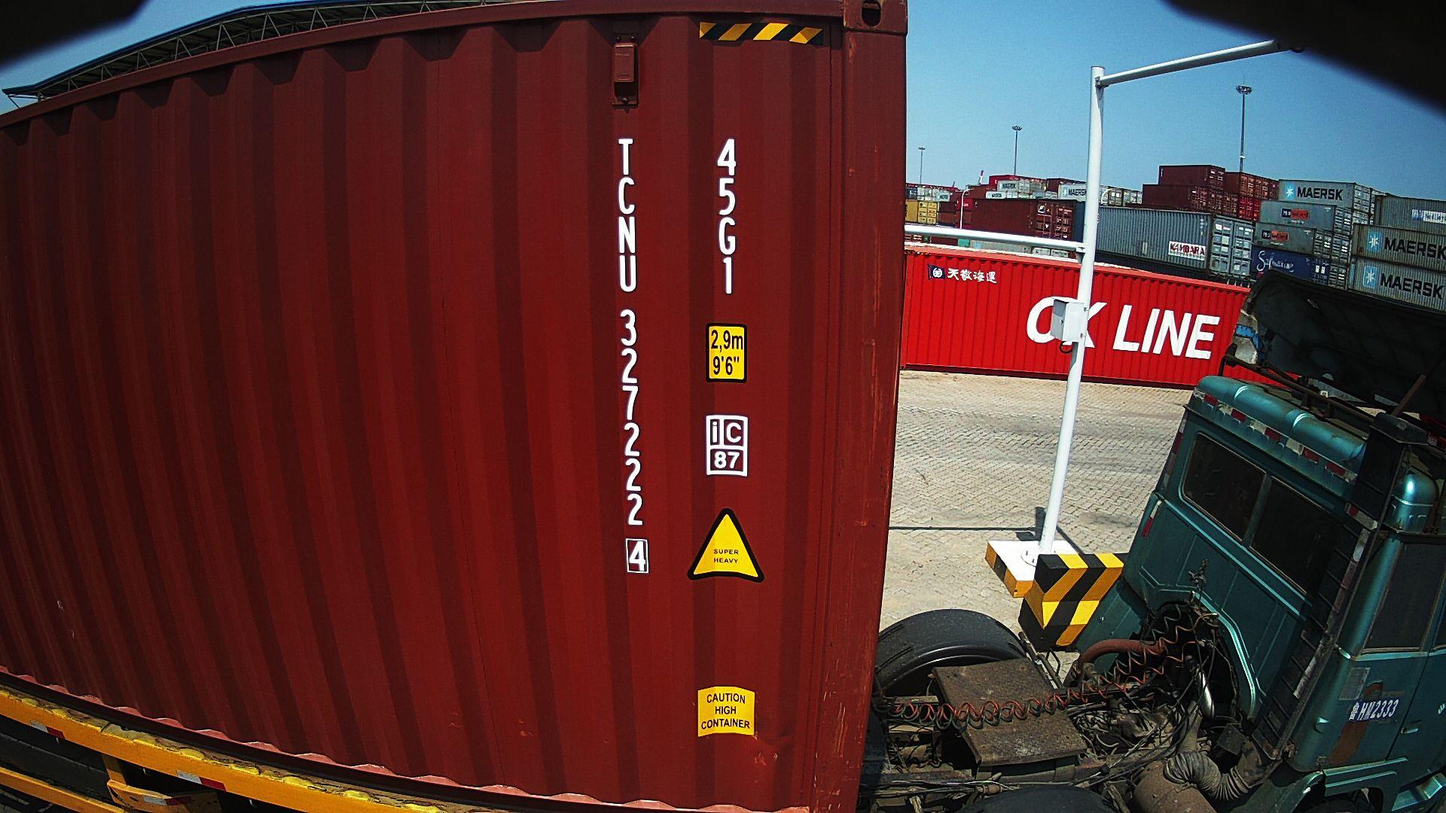container-numbers: (612, 130, 651, 578), (712, 132, 743, 300)
